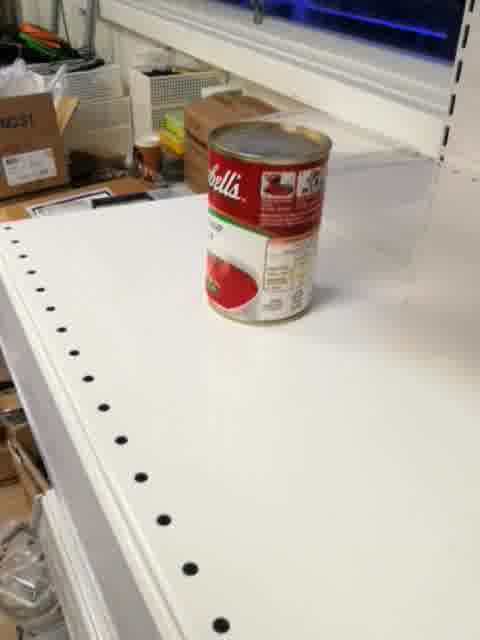tomatosoup: (204, 119, 335, 328)
